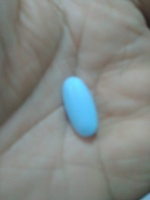Apranax: (61, 76, 100, 139)
